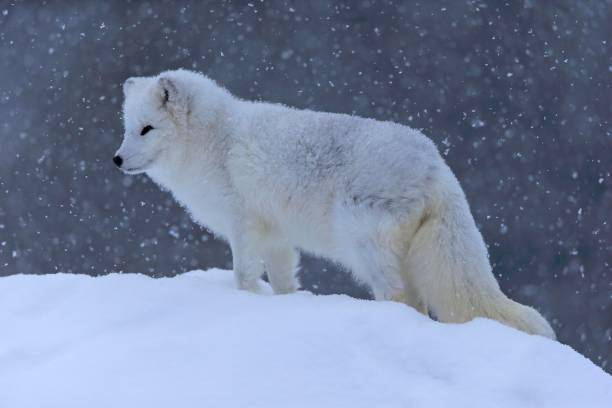arcticfox: (99, 79, 190, 190)
